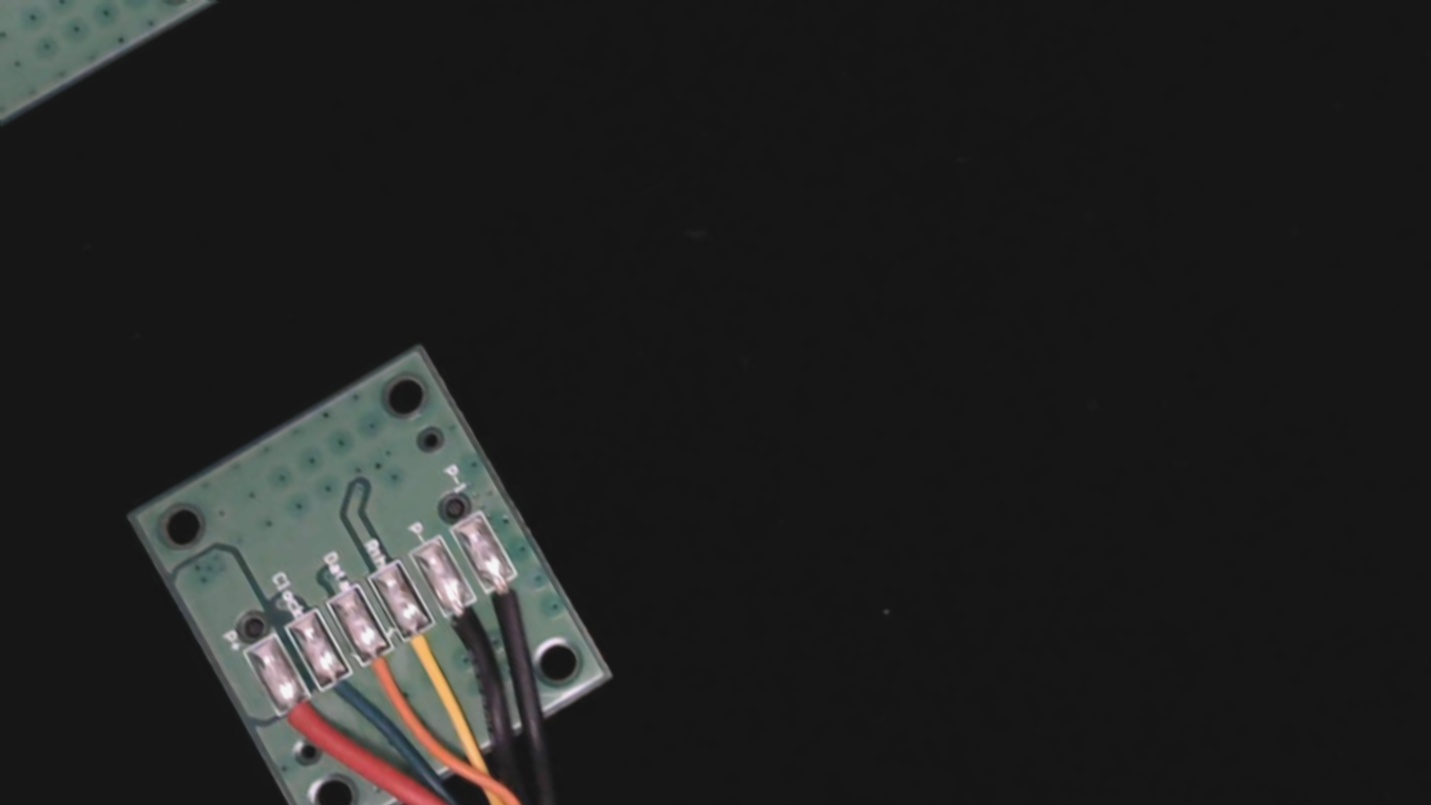Black: (431, 585, 507, 670)
Black1: (473, 559, 547, 640)
Green: (306, 656, 382, 739)
Orange: (347, 634, 425, 721)
Red: (266, 681, 342, 762)
Yellow: (387, 609, 465, 693)
